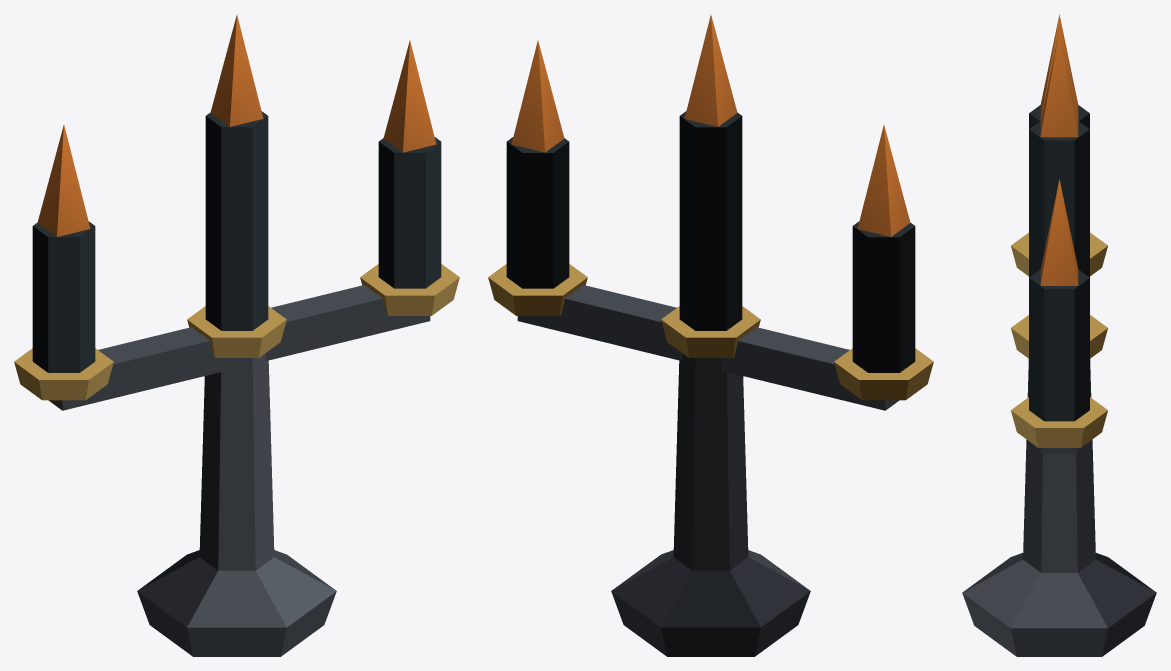
Rendered from uniq_candelabra.gltf.
The picture shows the model from 3 angles, left to right: view 1: azimuth 30°, elevation 25°; view 2: azimuth 150°, elevation 25°; view 3: azimuth 270°, elevation 25°; orthographic projection. The views are drawn at different scales.
Parts seen in each view (by area): view 1: uniq_candelabra; view 2: uniq_candelabra; view 3: uniq_candelabra.
Part boxes in pixels (x1,y1,x2,y2): uniq_candelabra: (14, 15, 459, 656); uniq_candelabra: (488, 15, 933, 656); uniq_candelabra: (962, 14, 1156, 656).
Size of the model in its own units: 0.3893 by 0.54 by 0.16.
1 material, 1 textured.
